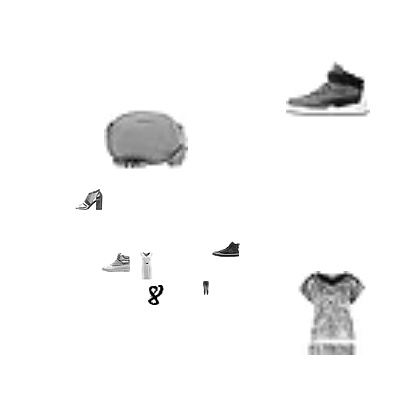8: (141, 280, 169, 308)
Bag: (104, 96, 188, 180)
Dress: (132, 252, 160, 280)
Sandal: (75, 185, 103, 213)
Shirt: (290, 271, 374, 355)
Sneaker: (286, 47, 370, 131), (212, 235, 240, 263), (102, 248, 130, 276)
Trouser: (199, 281, 213, 295)
